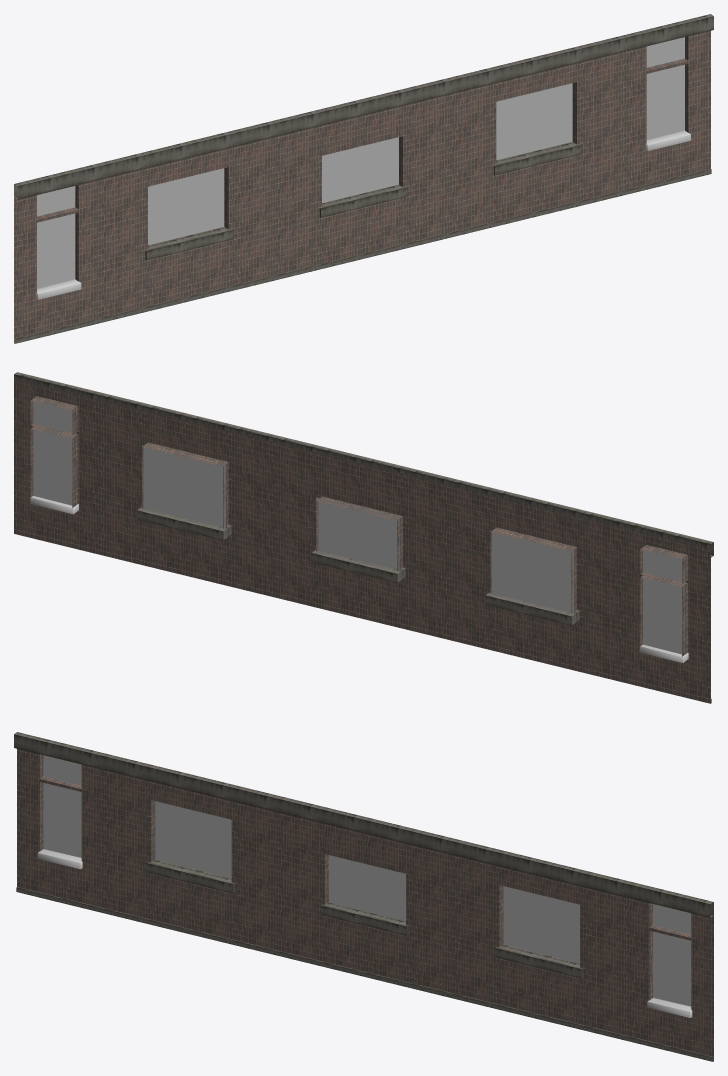
File: W_Windows_C_16x.FBX
3 renders of one model, top to bottom at view 1: azimuth 30°, elevation 25°; view 2: azimuth 150°, elevation 25°; view 3: azimuth 330°, elevation 25°, orthographic.
Parts seen in each view (by area): view 1: W_Windows_C_16x; view 2: W_Windows_C_16x; view 3: W_Windows_C_16x.
Boxes of the visible parts, x1,y1,x2,y2 form: W_Windows_C_16x: [14, 14, 713, 343]; W_Windows_C_16x: [14, 372, 713, 703]; W_Windows_C_16x: [14, 732, 713, 1061].
Bounding box in the file's own units: 1600 × 350 × 44.71.
